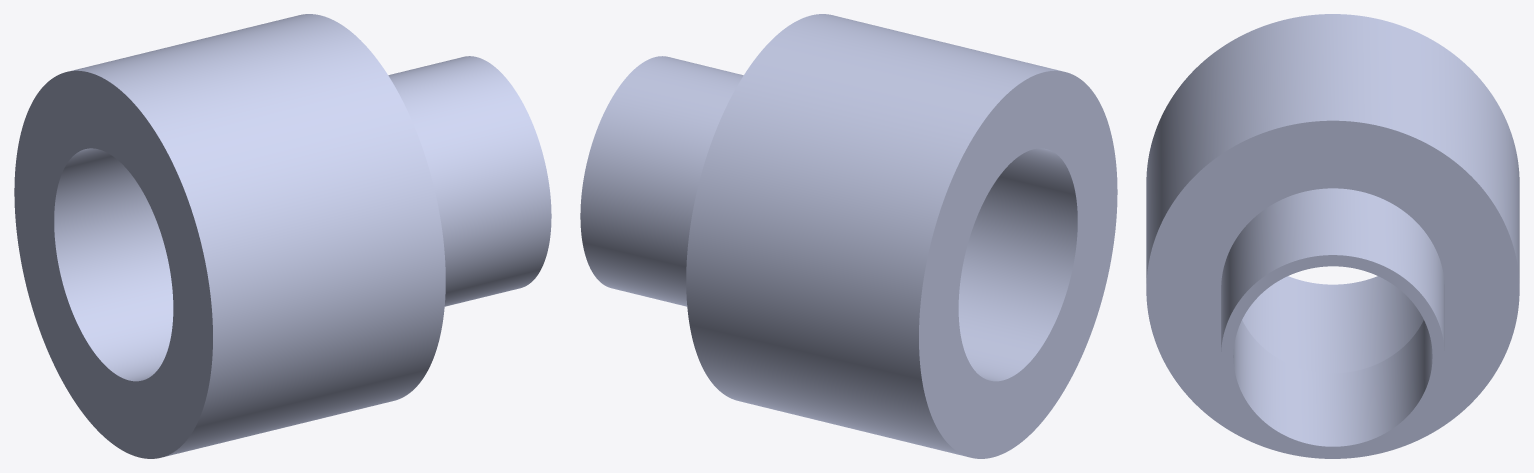
The model's file is AdjustablePipeline_1.fbx.
3 views of the same model, side by side, from view 1: azimuth 30°, elevation 25°; view 2: azimuth 150°, elevation 25°; view 3: azimuth 270°, elevation 25° (orthographic). The views are drawn at different scales.
Visible parts, largest first — view 1: 旋转1; view 2: 旋转1; view 3: 旋转1.
Boxes of the visible parts, box(x1,y1,x2,y2) form: 旋转1: box(14, 14, 551, 458); 旋转1: box(580, 14, 1117, 458); 旋转1: box(1146, 14, 1519, 458).
Size of the model in its own units: 1.64 by 1.5 by 1.5.
